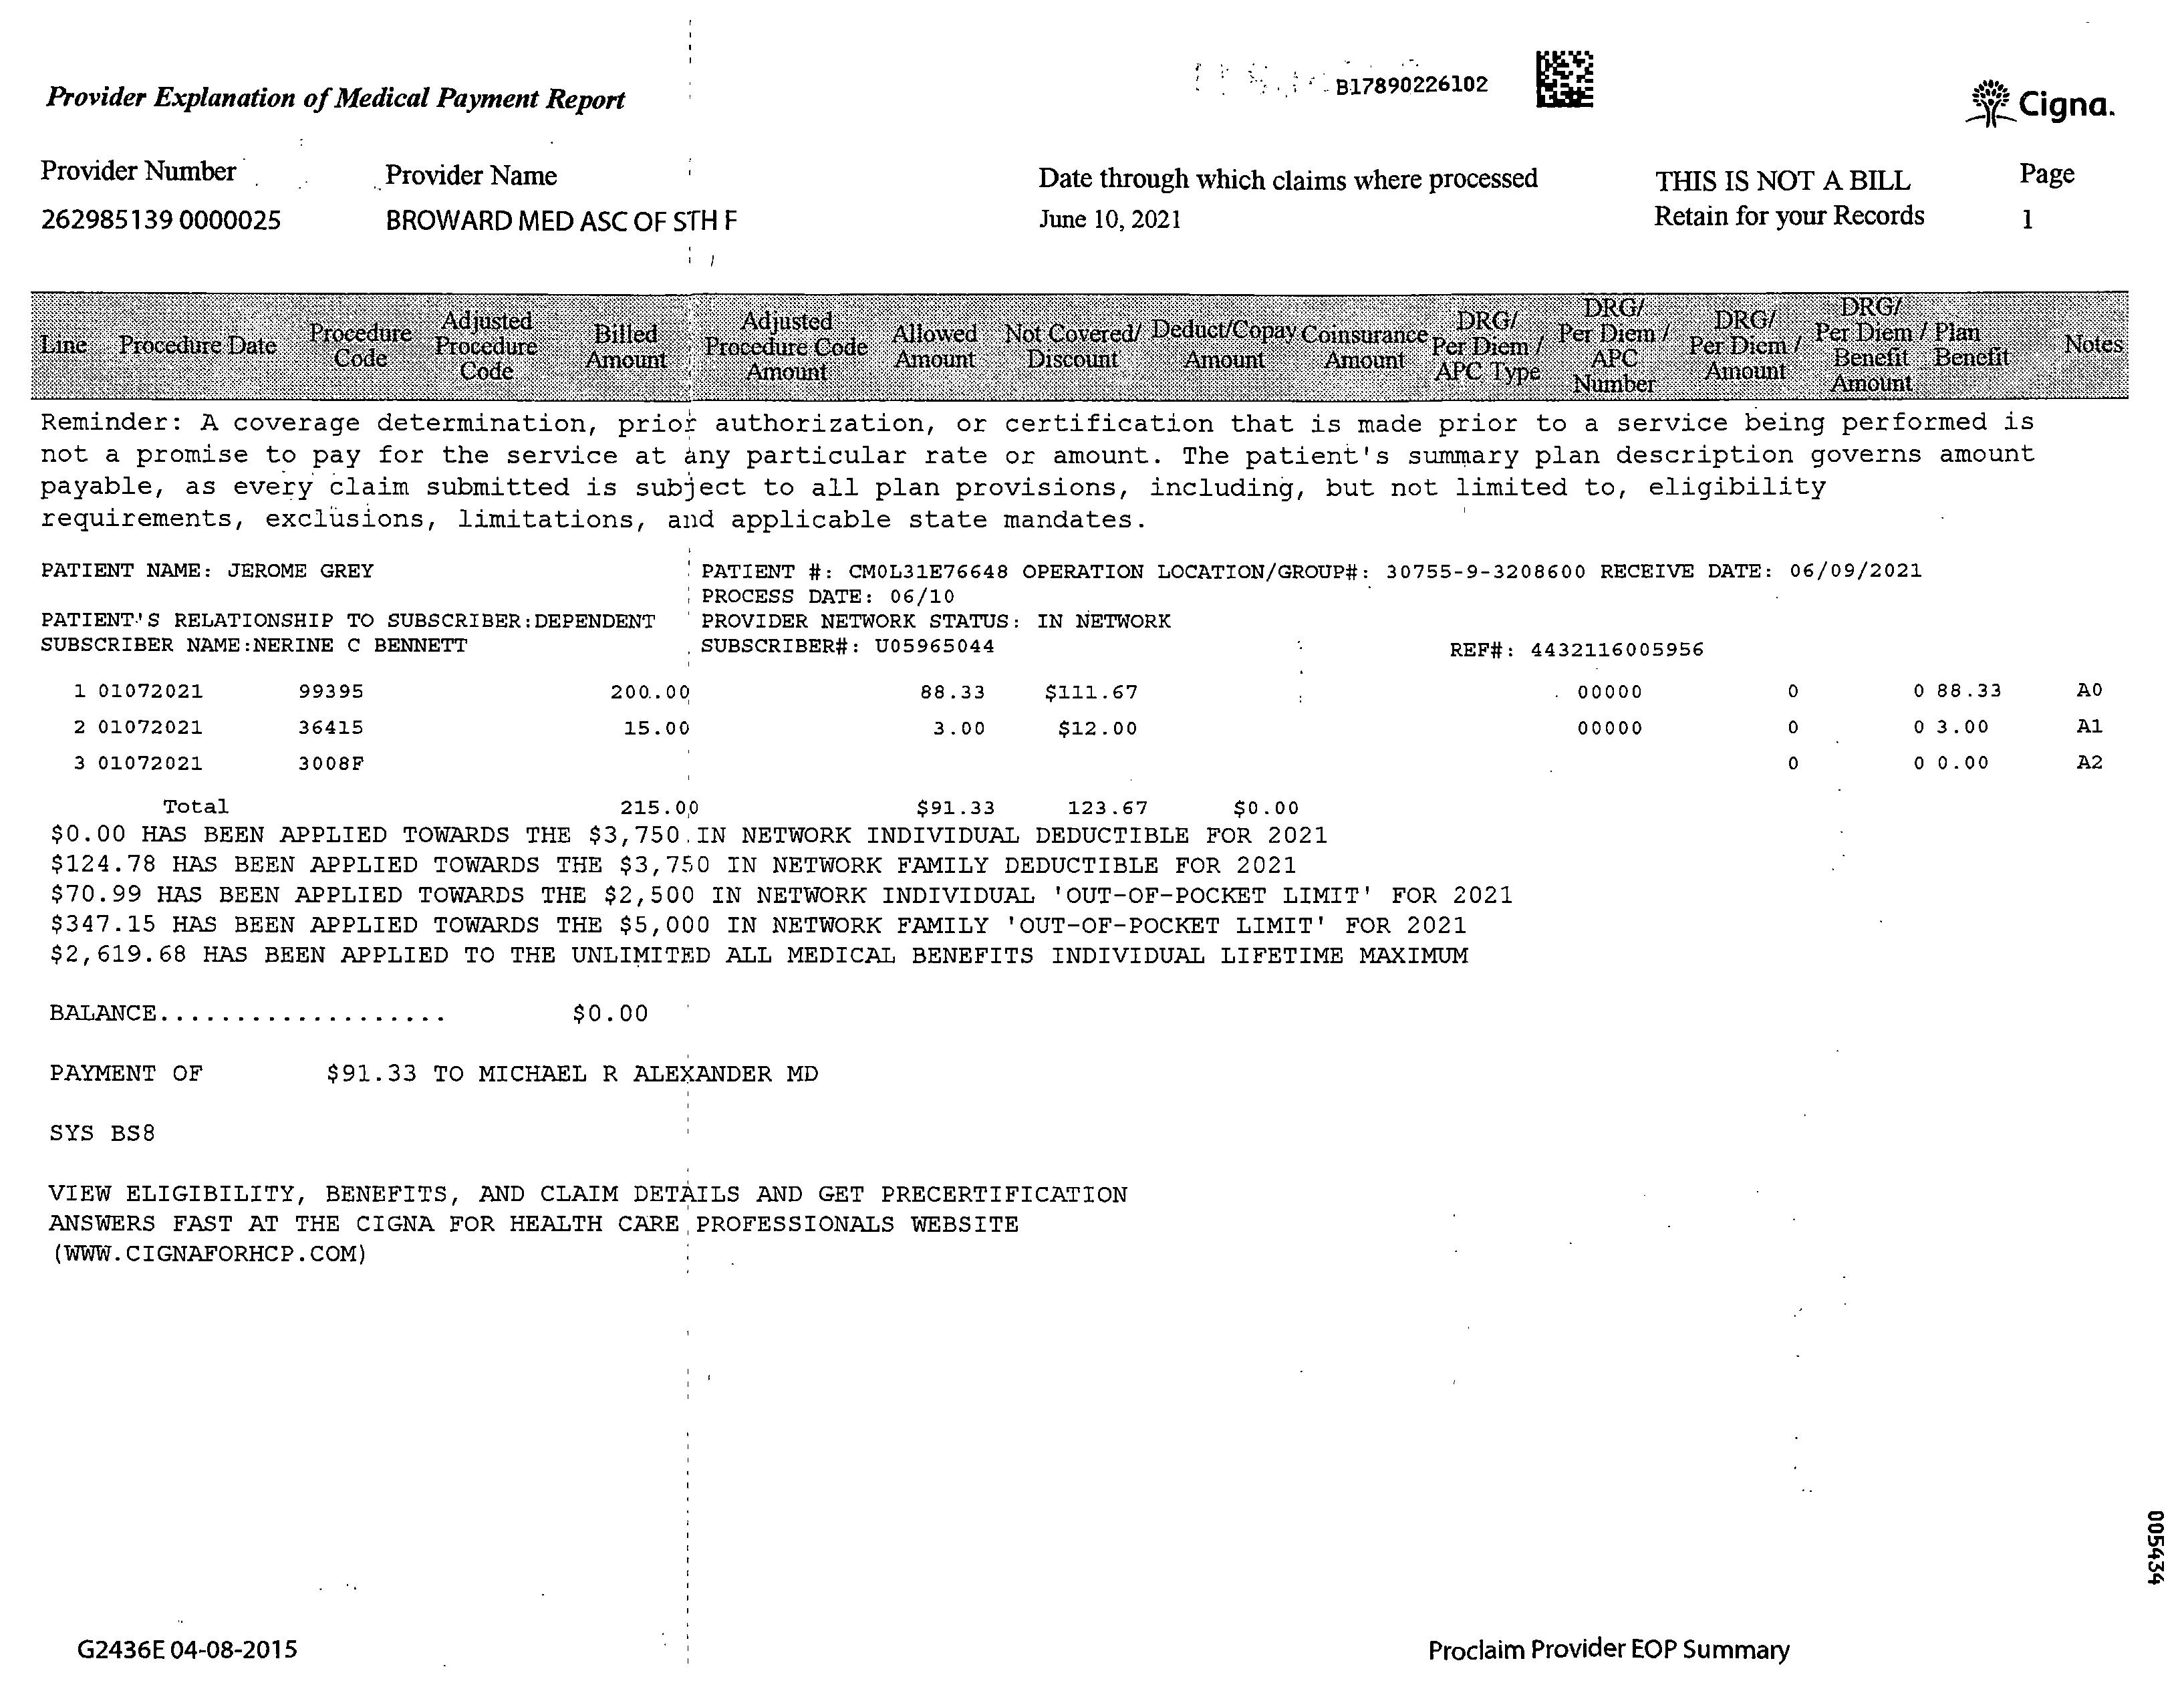data: (32, 140, 778, 253)
